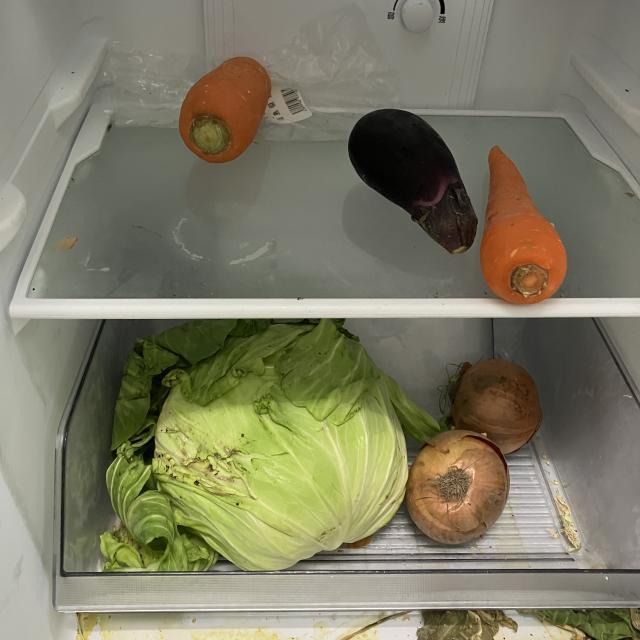cabbage: (95, 317, 445, 583)
carrot: (478, 143, 573, 310), (176, 54, 276, 170)
eggplant: (347, 108, 481, 257)
onion: (402, 427, 514, 550), (440, 358, 547, 462)
